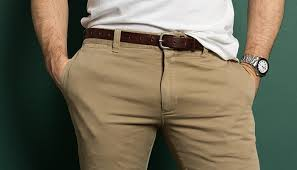F_belt: (79, 23, 232, 59)
